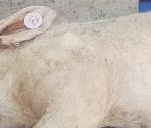text: (15, 6, 48, 34)
